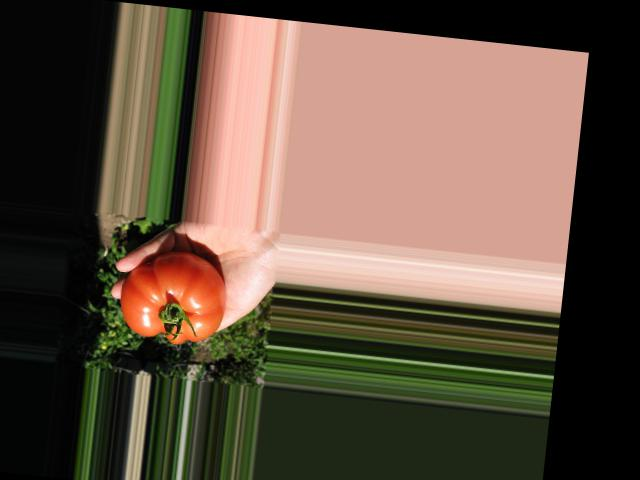tomato: (115, 246, 229, 348)
